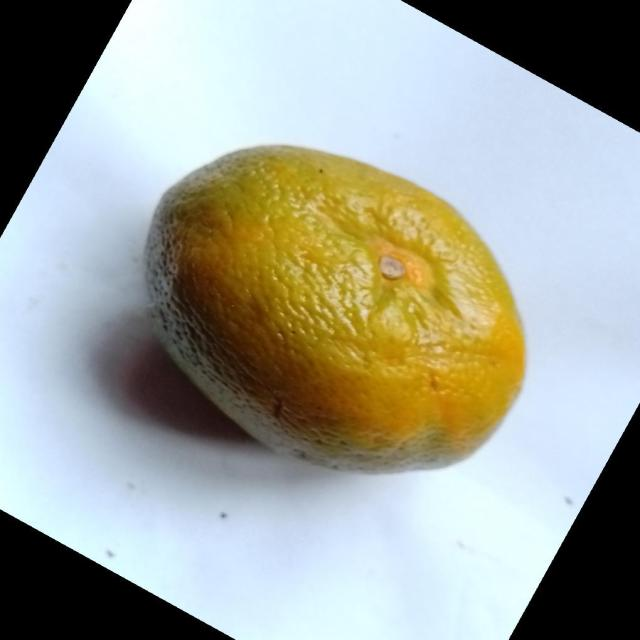fresh orange: (142, 142, 526, 474)
